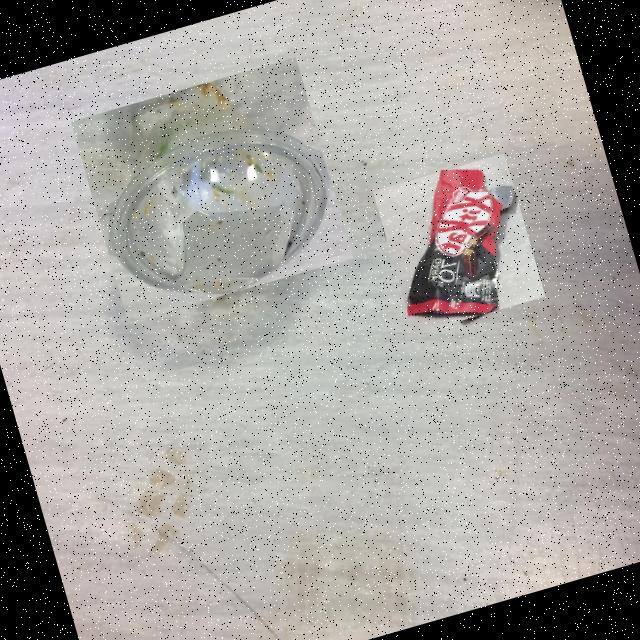Disposable food container: (100, 81, 333, 294)
Other plastic: (407, 169, 515, 317)
